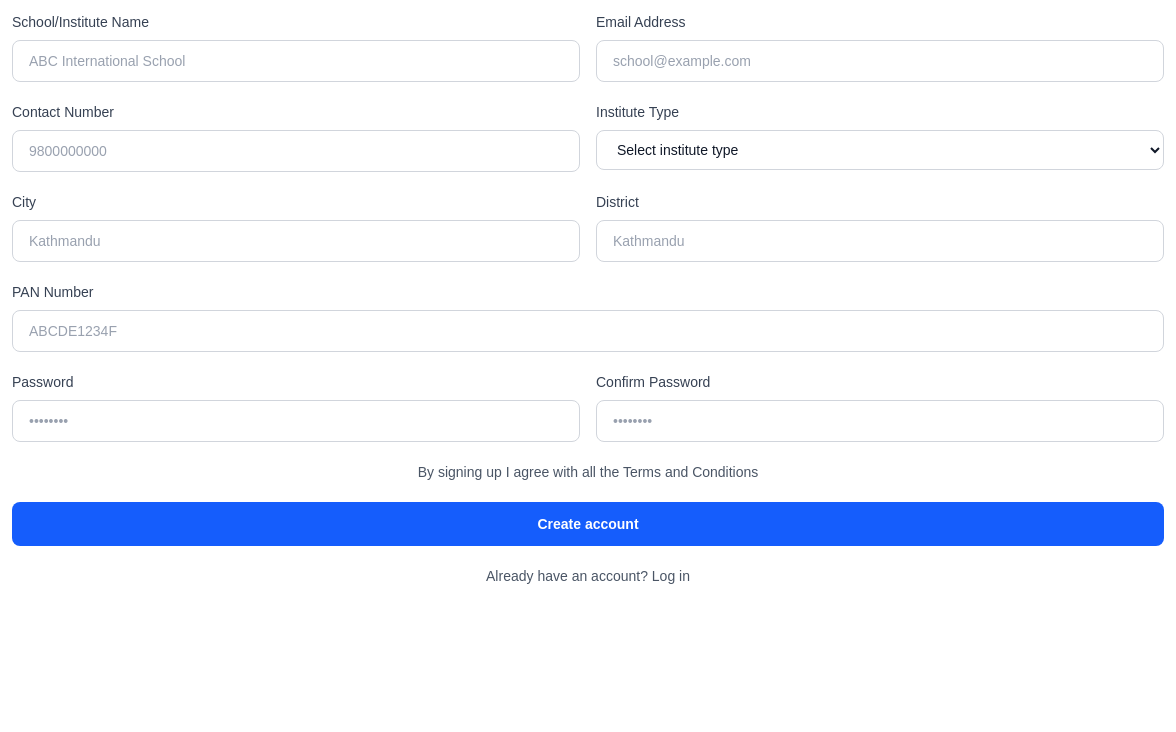
Test case: RegisterForm › shows validation errors when form is submitted empty
Click the button "Create account" at (588, 524), box top-left (12, 502), bottom-right (1164, 546)
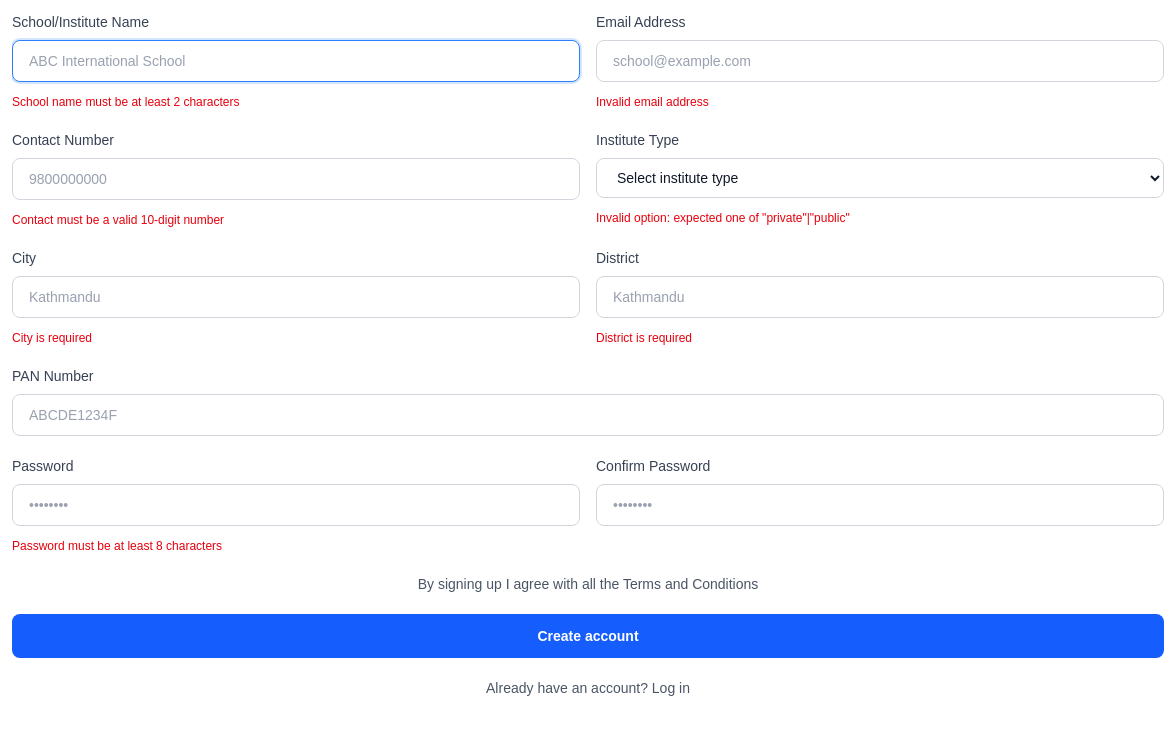
Check: the text "School name must be at least 2 characters" is shown, box top-left (12, 95), bottom-right (240, 109)
